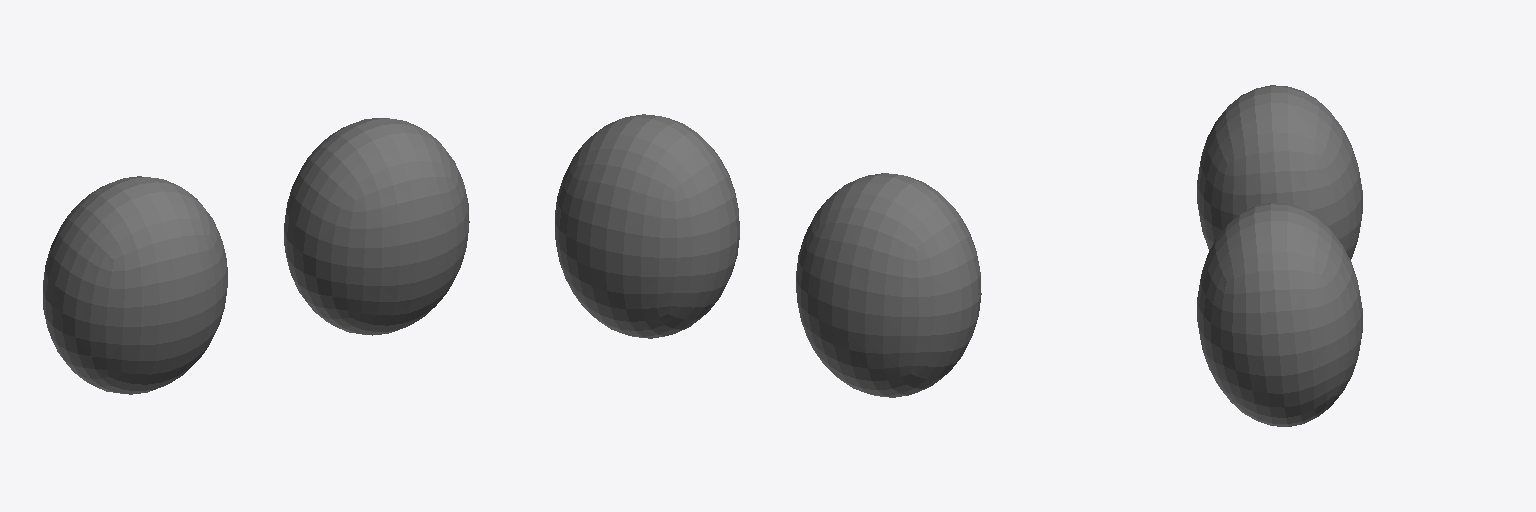
The model's file is LowPoly_FilhaAristocrata_Olhos.obj.
The picture shows the model from 3 angles: view 1: azimuth 30°, elevation 25°; view 2: azimuth 150°, elevation 25°; view 3: azimuth 270°, elevation 25°; orthographic projection.
Visible parts, largest first — view 1: LowPoly_FilhaAristocrata_Olhos; view 2: LowPoly_FilhaAristocrata_Olhos; view 3: LowPoly_FilhaAristocrata_Olhos.
Boxes of the visible parts, x1,y1,x2,y2 form: LowPoly_FilhaAristocrata_Olhos: [43, 118, 469, 394]; LowPoly_FilhaAristocrata_Olhos: [555, 114, 981, 397]; LowPoly_FilhaAristocrata_Olhos: [1197, 85, 1362, 426].
Bounding box in the file's own units: 10.92 × 5.34 × 3.84.